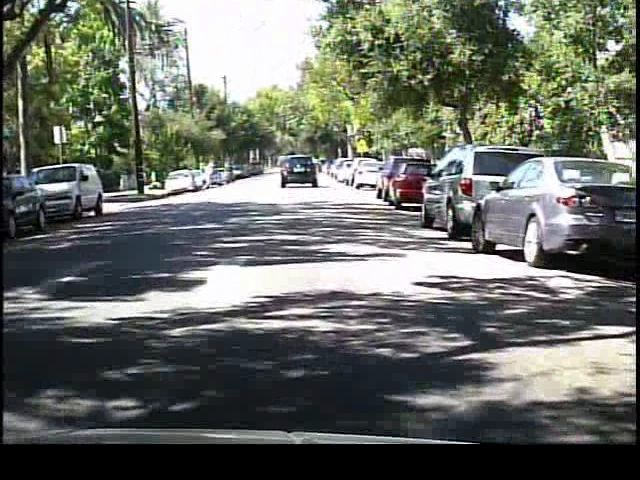person: (199, 158, 218, 197)
